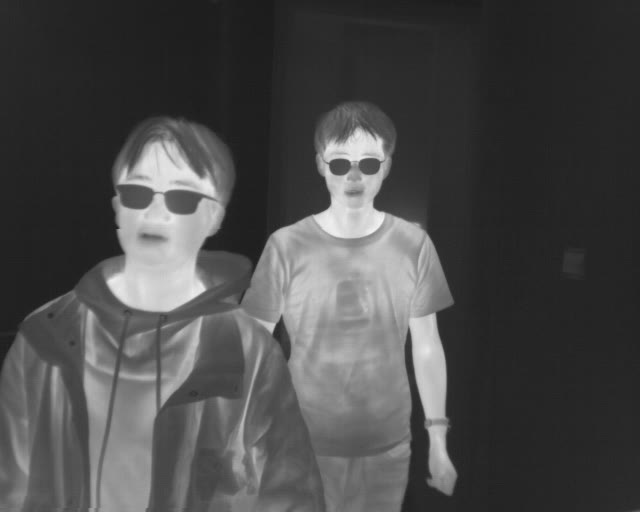face: (109, 114, 235, 269), (313, 100, 398, 211)
